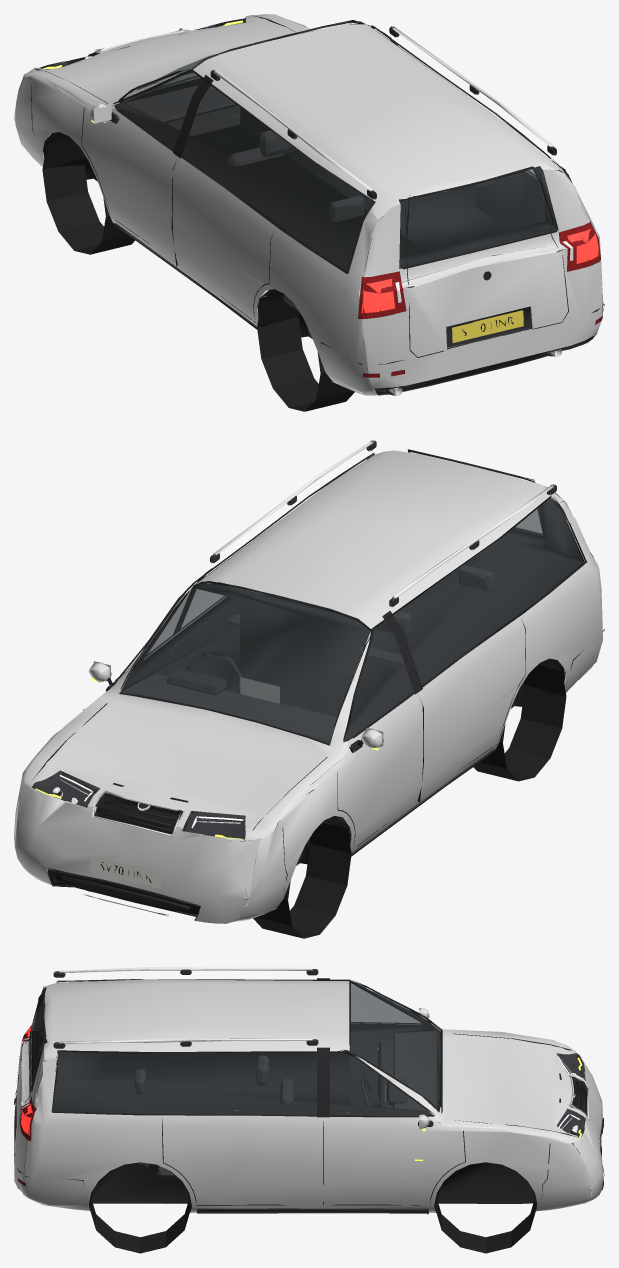
File: civ_suv_traffic.glb
3 views of the same model, one above another, from view 1: azimuth 30°, elevation 25°; view 2: azimuth 150°, elevation 25°; view 3: azimuth 270°, elevation 25° (orthographic). The views are drawn at different scales.
Visible parts, largest first — view 1: civ_suv; view 2: civ_suv; view 3: civ_suv.
Boxes of the visible parts, box(x1,y1,x2,y2) form: civ_suv: box(14, 14, 604, 411); civ_suv: box(14, 440, 604, 938); civ_suv: box(14, 967, 604, 1253).
Size of the model in its own units: 2.11 by 1.74 by 4.6.
